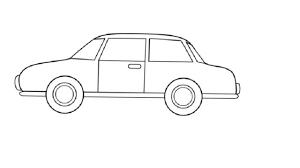car: (8, 32, 242, 116)
